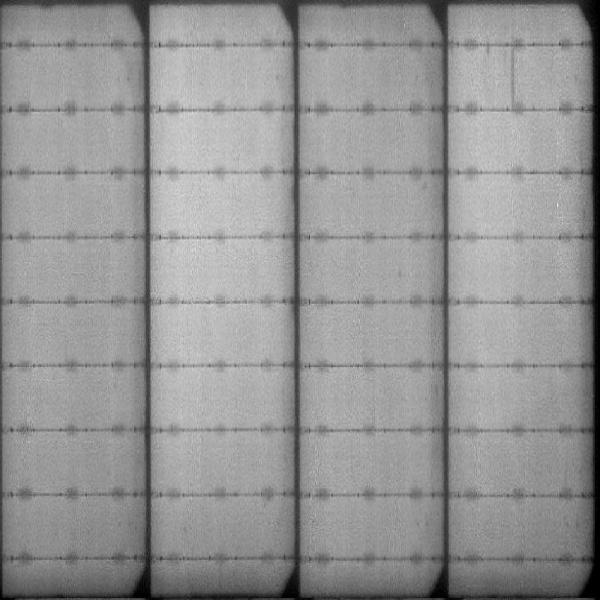scratch: (507, 48, 520, 112)
